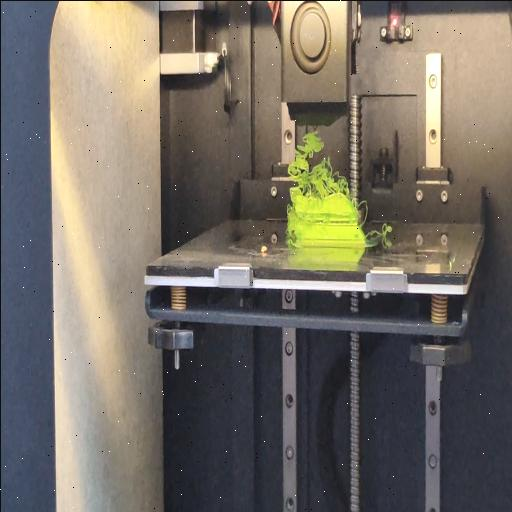spaghetti: (286, 127, 350, 199), (366, 220, 390, 237), (356, 198, 366, 224), (287, 238, 295, 246)
